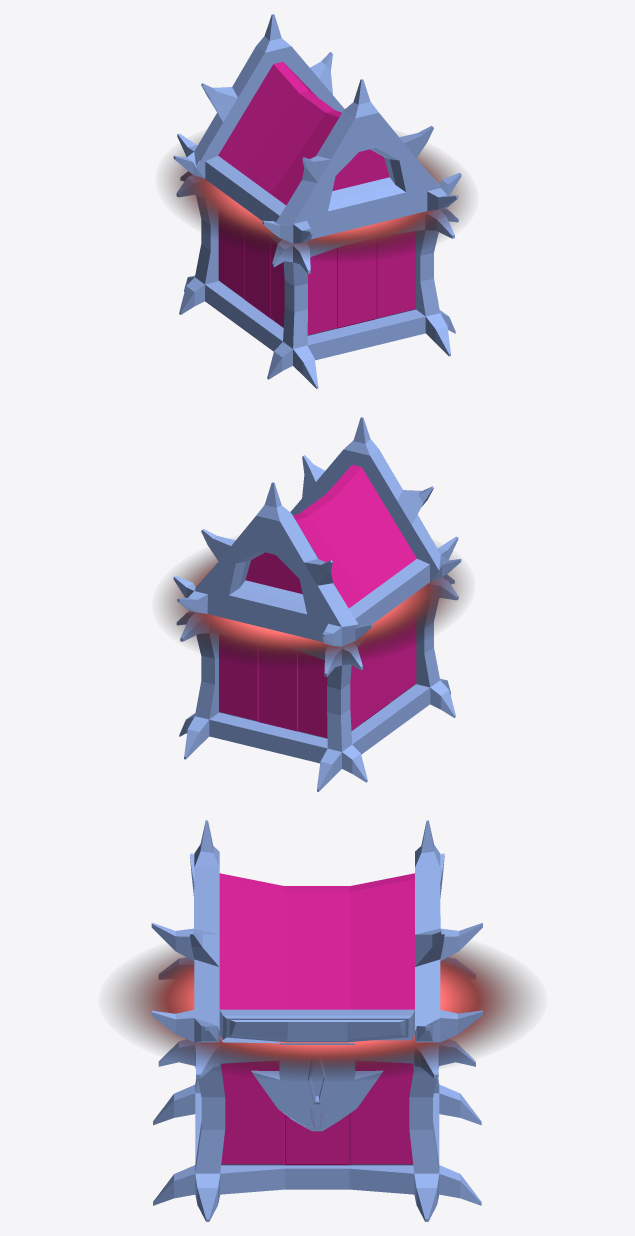
File: chests.glb
The picture shows the model from 3 angles, top to bottom: view 1: azimuth 30°, elevation 25°; view 2: azimuth 150°, elevation 25°; view 3: azimuth 270°, elevation 25°; orthographic projection. The views are drawn at different scales.
Parts seen in each view (by area): view 1: Plane; view 2: Plane; view 3: Plane.
Part boxes in pixels (x1,y1,x2,y2): Plane: [165, 14, 468, 388]; Plane: [162, 417, 465, 791]; Plane: [112, 820, 532, 1221].
Size of the model in its own units: 4.91 by 3.59 by 5.73.
Materials: 2 (2 with a texture image).
